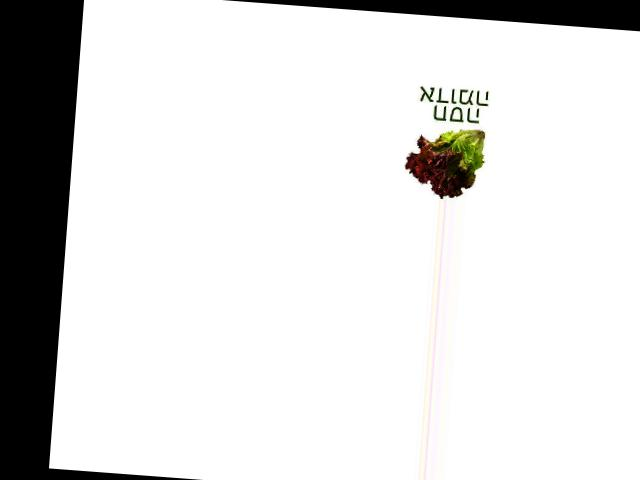lettuce: (401, 122, 494, 202)
